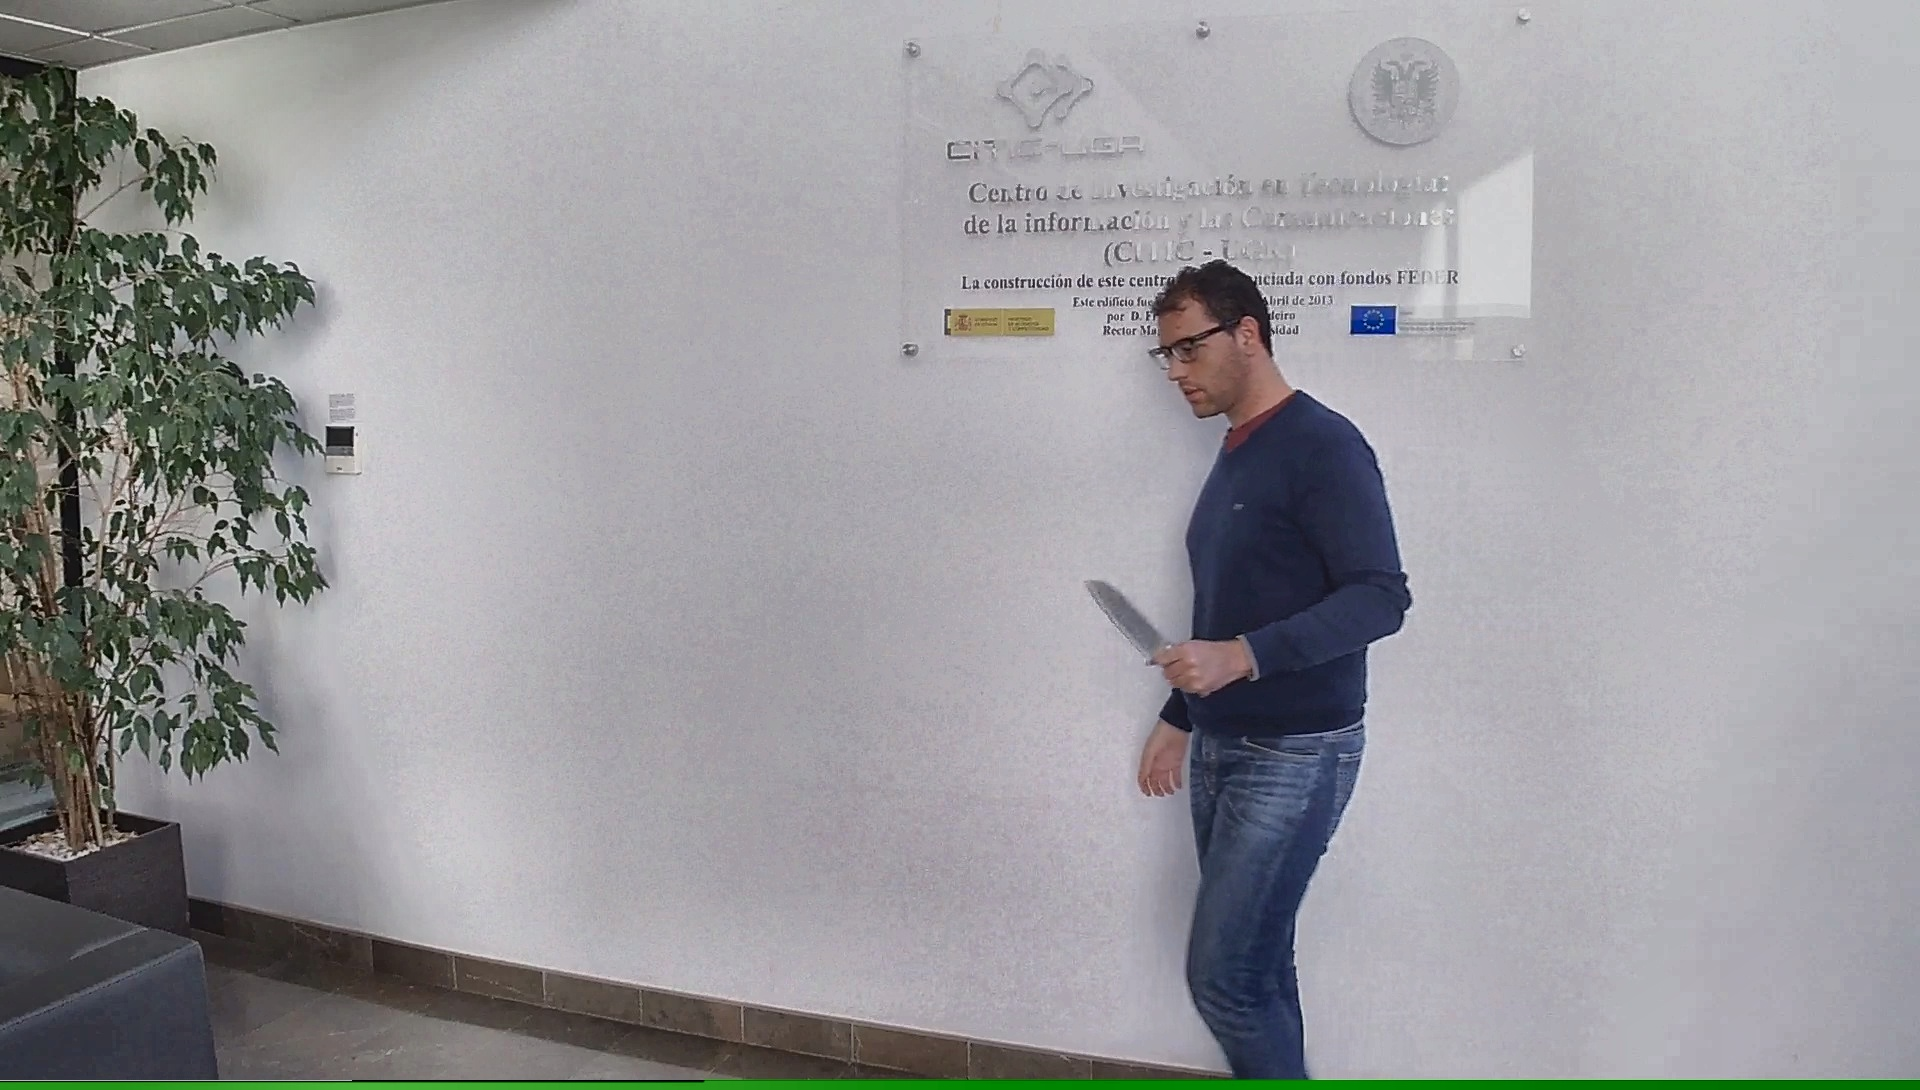knife: (1073, 569, 1212, 701)
